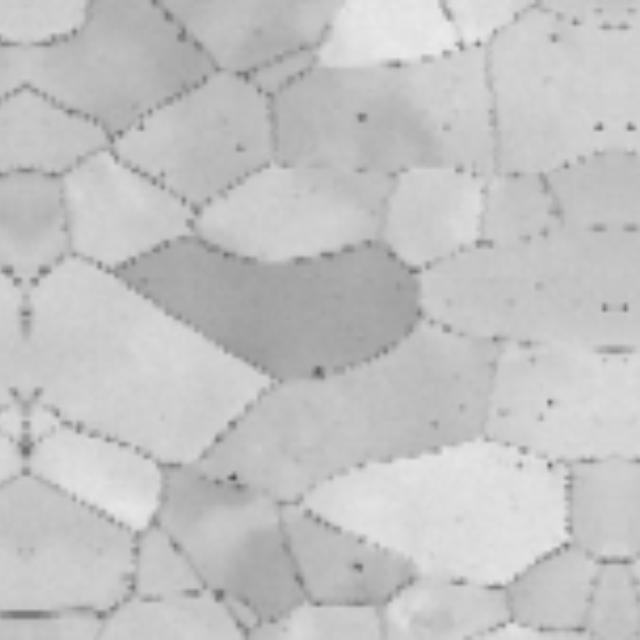good_void: (347, 103, 370, 126), (310, 364, 327, 383), (539, 396, 557, 413), (222, 468, 238, 487), (590, 119, 608, 135), (621, 119, 639, 135), (547, 31, 563, 47), (348, 560, 363, 576), (598, 301, 612, 318), (617, 301, 631, 318)
